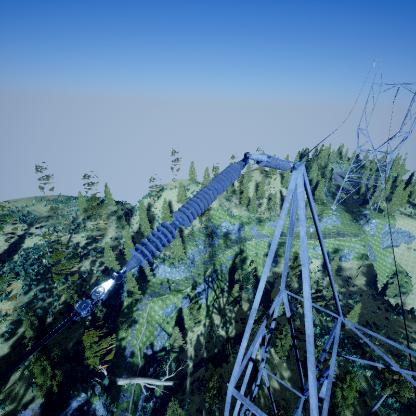insulator: (129, 163, 242, 268), (250, 147, 303, 176)
